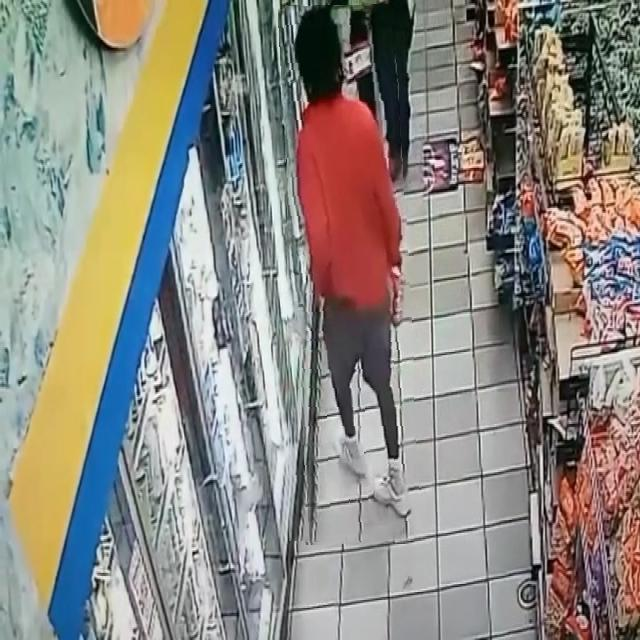normal: (285, 5, 414, 544)
